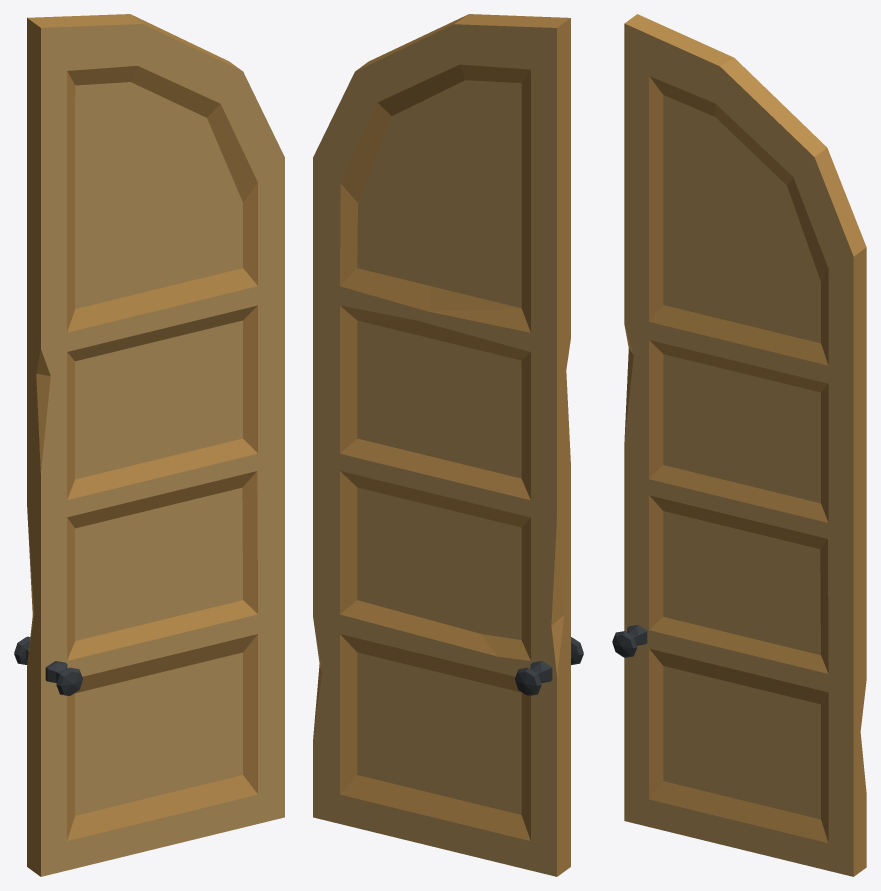
File: SM_Bld_Hall_01_Door_2.glb
3 renders of one model, left to right at view 1: azimuth 30°, elevation 25°; view 2: azimuth 150°, elevation 25°; view 3: azimuth 330°, elevation 25°, orthographic. The views are drawn at different scales.
Visible parts, largest first — view 1: SM_Bld_Hall_01_Door_2; view 2: SM_Bld_Hall_01_Door_2; view 3: SM_Bld_Hall_01_Door_2.
Part boxes in pixels (<box>): SM_Bld_Hall_01_Door_2: <box>14,14,284,876</box>; SM_Bld_Hall_01_Door_2: <box>313,14,583,876</box>; SM_Bld_Hall_01_Door_2: <box>612,14,866,876</box>.
Bounding box in the file's own units: 1.21 × 4.03 × 0.4242.
Materials: 1 (1 with a texture image).
